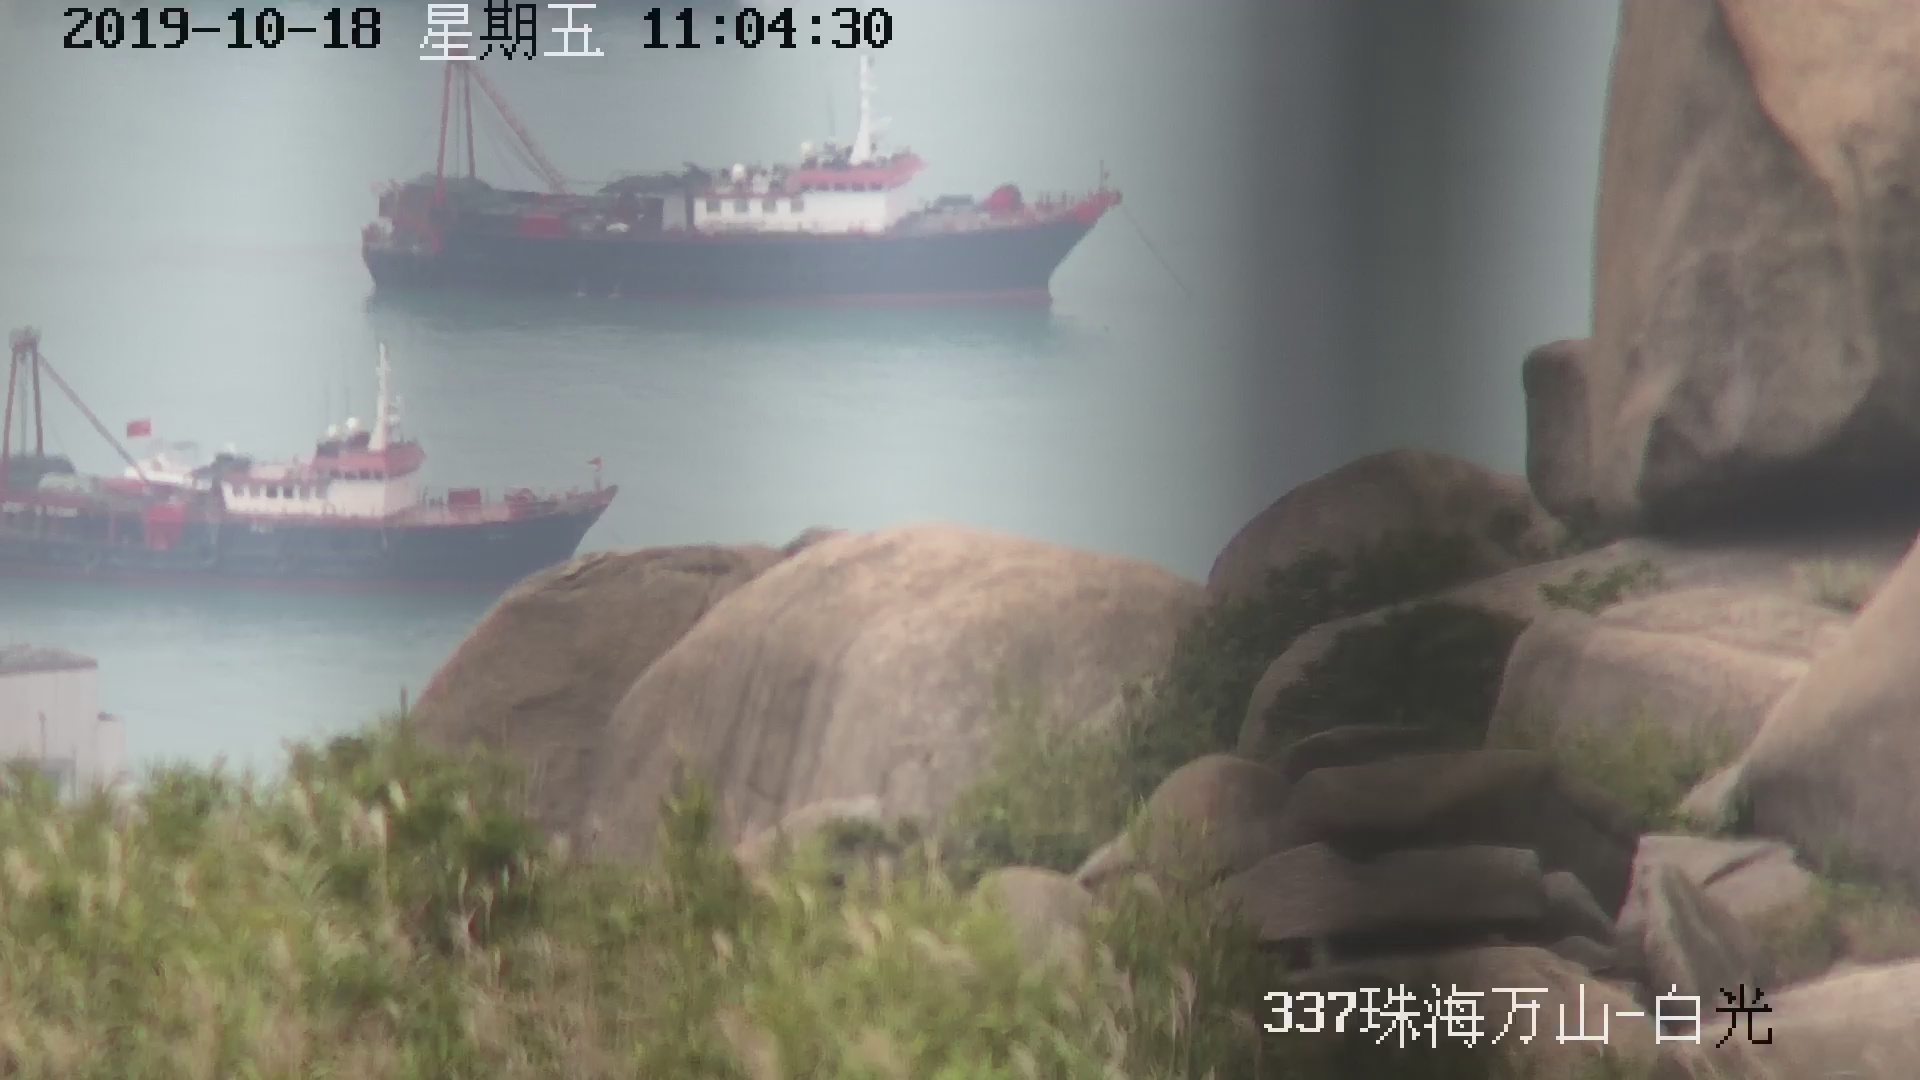ship: (355, 7, 1117, 287), (1, 345, 611, 571)
